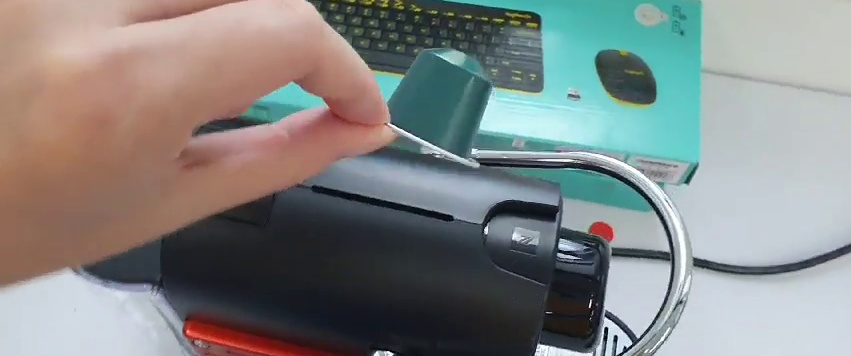capsule_13: (373, 47, 491, 172)
